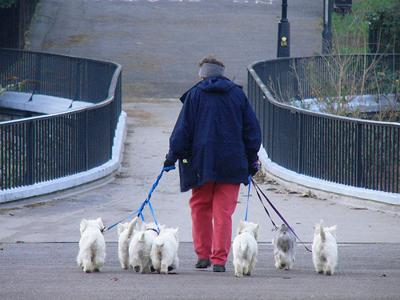person: (162, 57, 259, 274)
